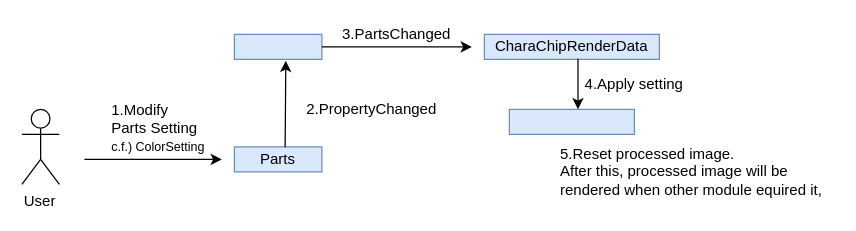
The diagram is 856 pixels wide and 231 high, and some of its shapes have lost their labels. Here are the shapes that lost their labels. From the top down, the box of each, then its label:
(233, 33, 322, 59): Character
(508, 108, 634, 134): RenderLayer
